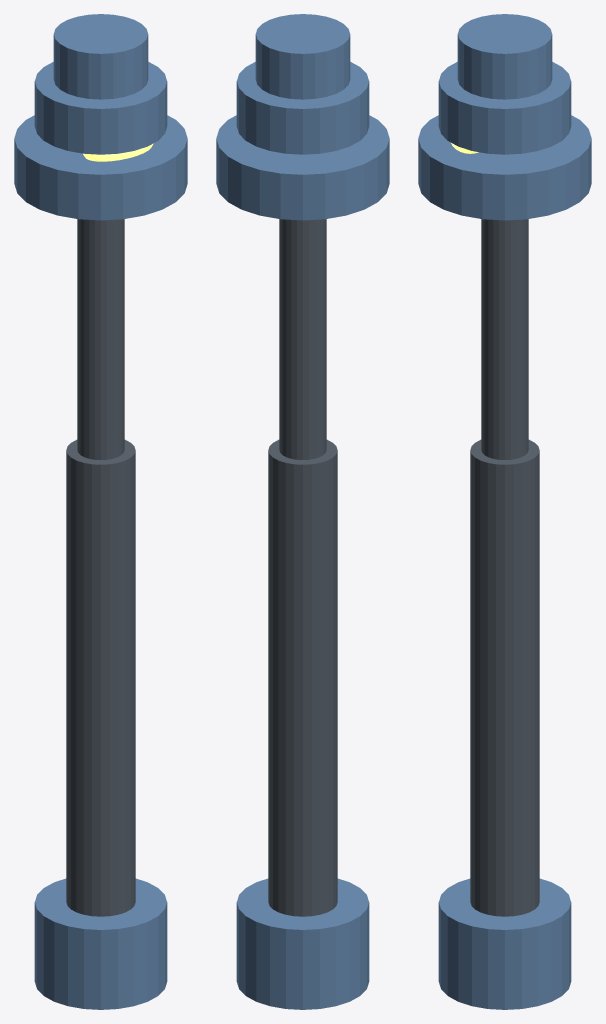
File: lamp_pine_v1.fe092a7d5833.glb
The picture shows the model from 3 angles, left to right: view 1: azimuth 30°, elevation 25°; view 2: azimuth 150°, elevation 25°; view 3: azimuth 270°, elevation 25°; orthographic projection.
Parts seen in each view (by area): view 1: Lamp_Lower_PINE, Lamp_Base_PINE, Pine_Crown_PINE, Lamp_Upper_PINE, Pine_Crown_PINE.001, Pine_Crown_PINE.002, Glow_PINE; view 2: Lamp_Lower_PINE, Lamp_Base_PINE, Pine_Crown_PINE, Lamp_Upper_PINE, Pine_Crown_PINE.001, Pine_Crown_PINE.002; view 3: Lamp_Lower_PINE, Lamp_Base_PINE, Pine_Crown_PINE, Lamp_Upper_PINE, Pine_Crown_PINE.001, Pine_Crown_PINE.002.
Part boxes in pixels (box(x1,y1,x2,y2)): Lamp_Lower_PINE: box(66, 439, 135, 916); Lamp_Base_PINE: box(34, 878, 167, 1009); Pine_Crown_PINE: box(14, 115, 187, 220); Lamp_Upper_PINE: box(77, 219, 124, 459); Pine_Crown_PINE.001: box(34, 62, 167, 154); Pine_Crown_PINE.002: box(53, 14, 148, 99); Glow_PINE: box(83, 143, 153, 161); Lamp_Lower_PINE: box(268, 439, 337, 916); Lamp_Base_PINE: box(236, 878, 369, 1009); Pine_Crown_PINE: box(216, 115, 389, 220); Lamp_Upper_PINE: box(279, 219, 326, 459); Pine_Crown_PINE.001: box(236, 62, 369, 154); Pine_Crown_PINE.002: box(255, 14, 350, 99); Lamp_Lower_PINE: box(470, 439, 539, 916); Lamp_Base_PINE: box(438, 878, 571, 1009); Pine_Crown_PINE: box(418, 115, 591, 220); Lamp_Upper_PINE: box(481, 219, 528, 459); Pine_Crown_PINE.001: box(438, 62, 571, 154); Pine_Crown_PINE.002: box(457, 14, 552, 99).
Bounding box in the file's own units: 1.1 × 6.64 × 1.1.
